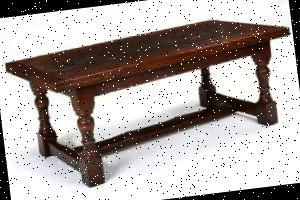Mesa: (4, 9, 299, 194)
